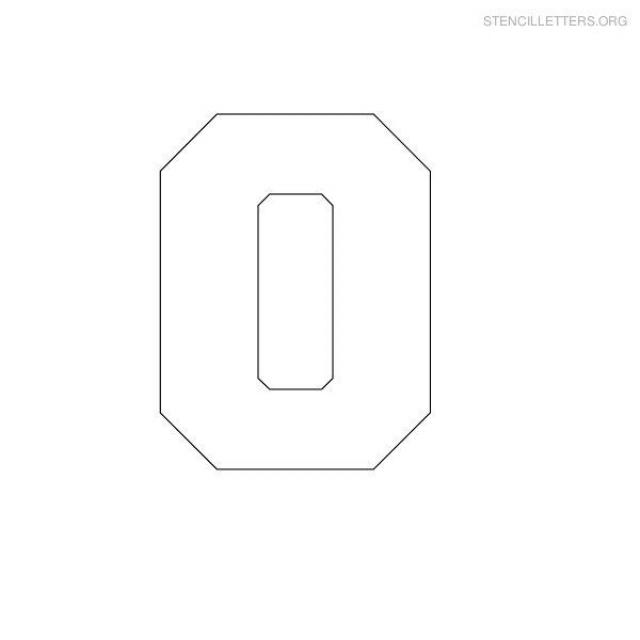O: (87, 52, 487, 506)
